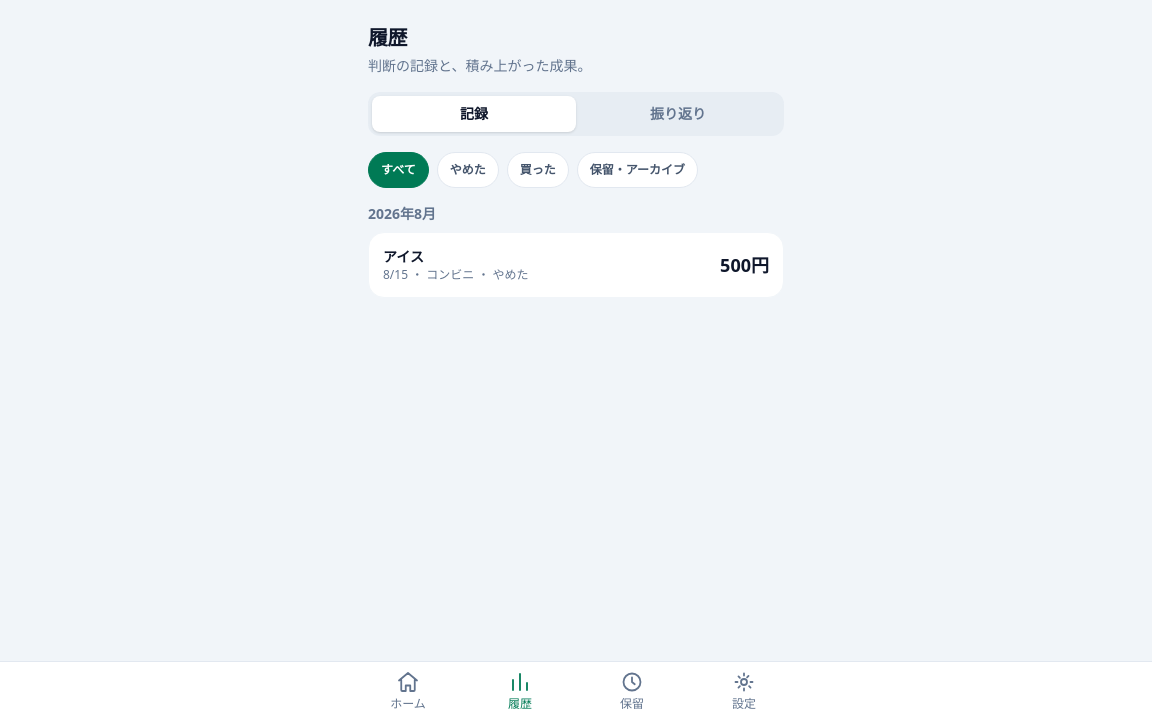
Test: 履歴画面 › 行をタップすると詳細が展開し、編集・削除ボタンが現れる
This screenshot has width=1152, height=720.
Click the text "アイス" at coordinates (403, 256), box [383,247,424,266]
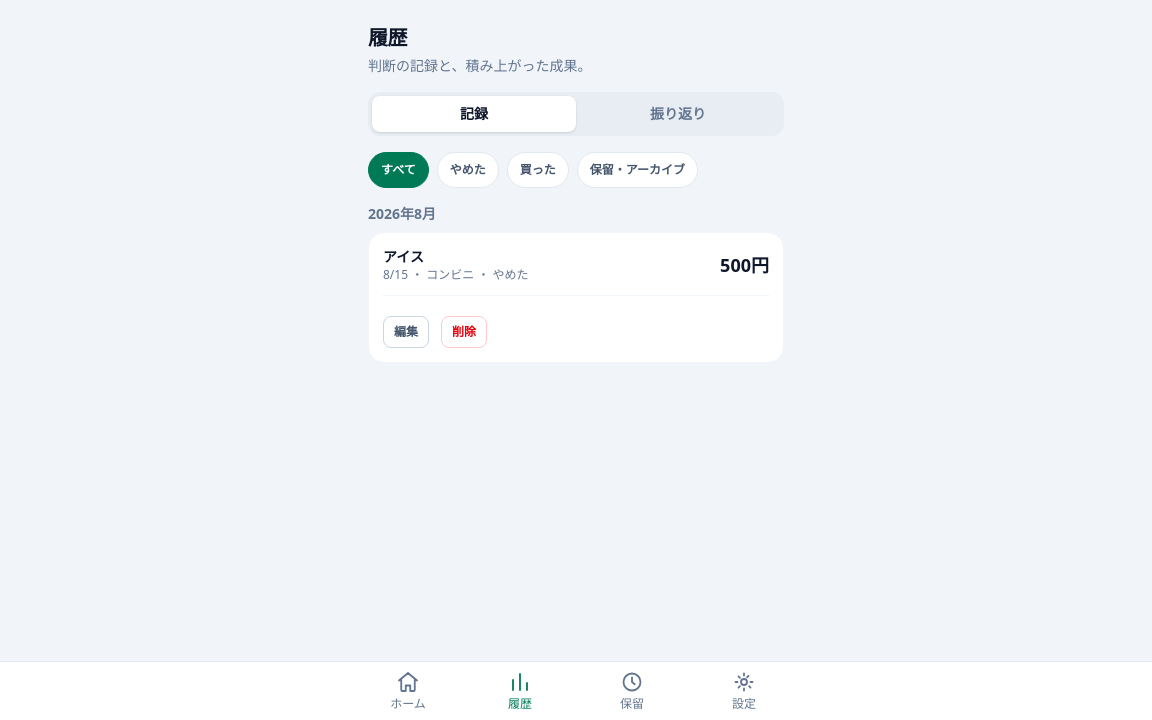
Result: the button "編集" is shown at [383,316,429,348]
Result: the button "削除" is shown at [441,316,487,348]
